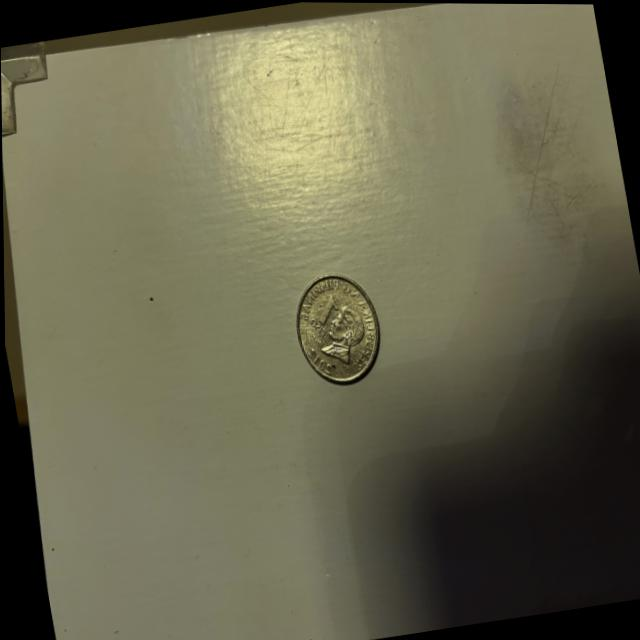1_Old_Front: (303, 291, 343, 336)
